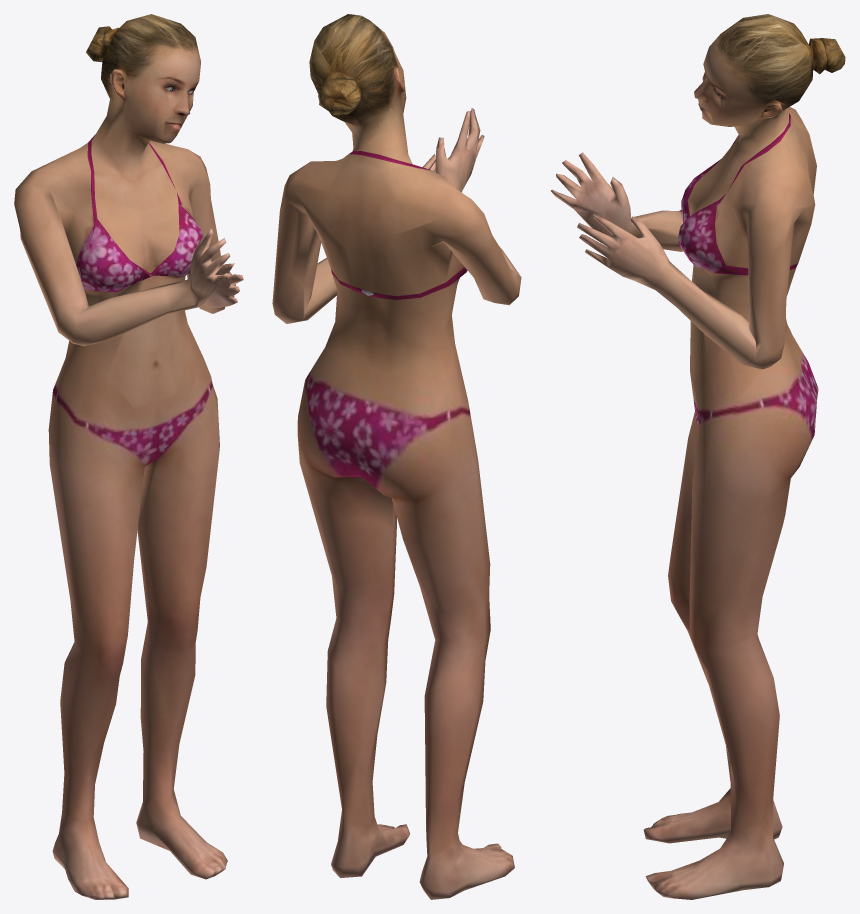
File: Sports_Female_01_clap.glb
3 views of the same model, side by side, from view 1: azimuth 30°, elevation 25°; view 2: azimuth 150°, elevation 25°; view 3: azimuth 270°, elevation 25° (orthographic). The views are drawn at different scales.
Visible parts, largest first — view 1: f021_hipoly_81_bones_b; view 2: f021_hipoly_81_bones_b; view 3: f021_hipoly_81_bones_b.
Part boxes in pixels (left/top/right/bottom): f021_hipoly_81_bones_b: left=14, top=14, right=243, bottom=899; f021_hipoly_81_bones_b: left=272, top=14, right=521, bottom=899; f021_hipoly_81_bones_b: left=550, top=14, right=845, bottom=899.
Bounding box in the file's own units: 0.4554 × 1.72 × 0.532.
2 materials, 2 textured.
